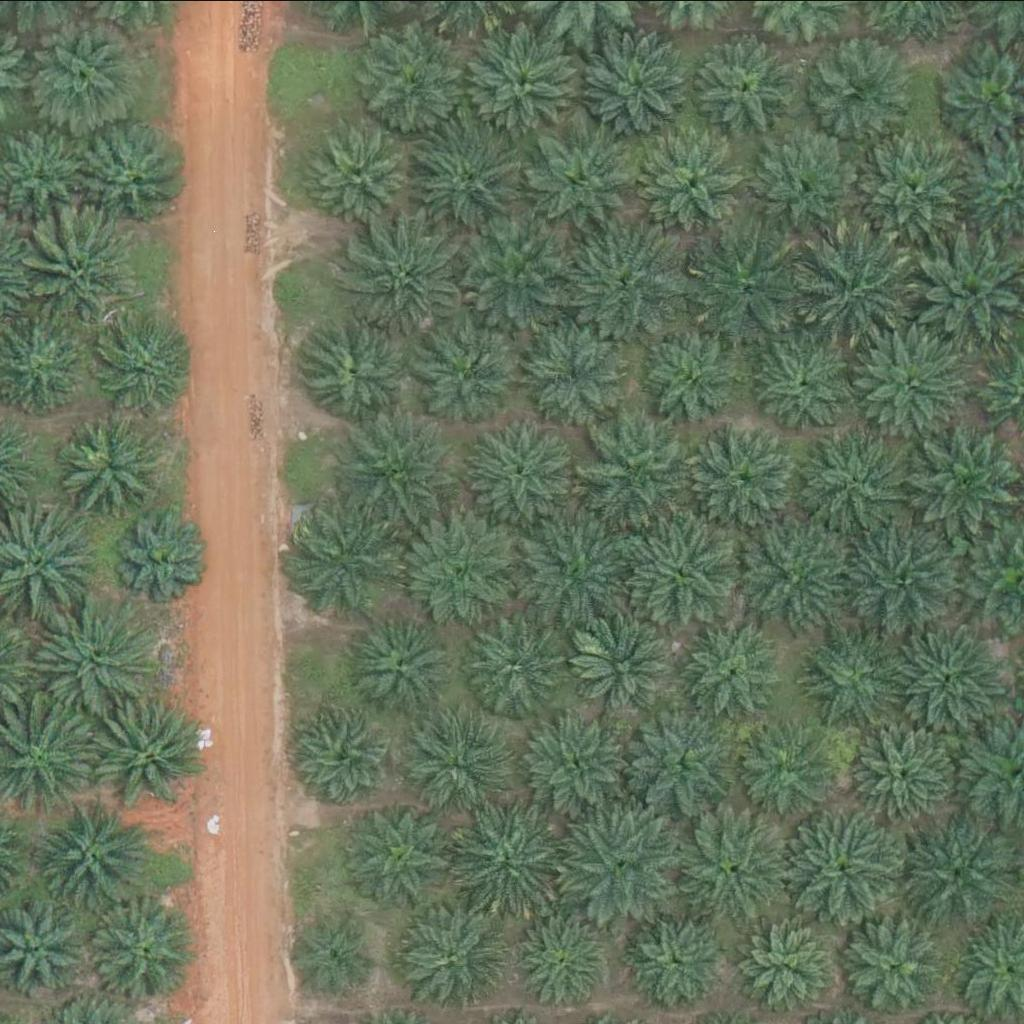Kelapa_Sawit: (527, 118, 641, 231), (688, 425, 802, 538), (44, 602, 158, 715), (85, 889, 199, 1002), (37, 802, 151, 915), (357, 25, 470, 138), (461, 24, 574, 137), (693, 31, 806, 144), (801, 36, 914, 149), (859, 138, 972, 251), (416, 127, 529, 240), (462, 213, 575, 326), (566, 233, 679, 346), (409, 315, 522, 428), (345, 422, 458, 535), (466, 421, 579, 534), (806, 428, 919, 541), (294, 508, 407, 621), (411, 515, 524, 628), (626, 511, 739, 624), (728, 518, 841, 631), (810, 623, 923, 736), (571, 808, 684, 921), (678, 813, 791, 926), (782, 808, 895, 921), (908, 820, 1021, 933), (398, 907, 511, 1020), (635, 121, 749, 233), (299, 318, 413, 430), (837, 521, 951, 633), (343, 803, 457, 915), (586, 31, 699, 143), (747, 128, 860, 240), (350, 220, 463, 332), (690, 227, 803, 339), (803, 226, 916, 338), (856, 325, 969, 437), (578, 407, 691, 519), (522, 514, 635, 626), (573, 603, 686, 715), (886, 618, 999, 730), (622, 704, 735, 816), (458, 804, 571, 916), (32, 15, 145, 127), (78, 121, 191, 233), (26, 216, 139, 328), (62, 409, 175, 521), (95, 694, 208, 806), (310, 130, 411, 230), (748, 335, 849, 435), (532, 322, 633, 422), (346, 612, 447, 712), (475, 613, 576, 713), (684, 620, 785, 720), (736, 721, 837, 821), (523, 711, 624, 811), (838, 915, 939, 1015), (733, 915, 834, 1015), (628, 906, 729, 1006), (100, 316, 201, 416), (647, 328, 747, 428), (855, 721, 955, 821), (410, 718, 510, 818), (293, 707, 393, 807), (289, 910, 377, 998), (517, 917, 605, 1005), (124, 516, 212, 603)
